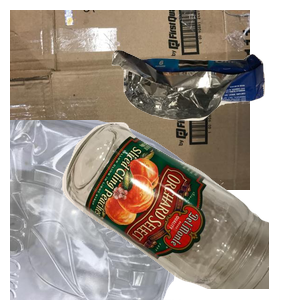cardboard: (10, 10, 250, 190)
glass: (60, 120, 300, 300)
plastic: (10, 120, 197, 300)
trash: (109, 47, 300, 160)
